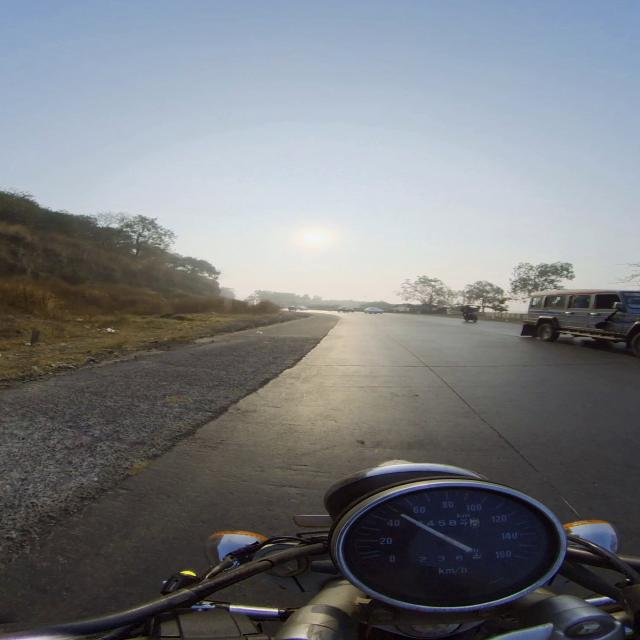car: (521, 290, 639, 356), (364, 307, 383, 314), (338, 307, 354, 312)
motorcycle: (0, 461, 639, 639)
